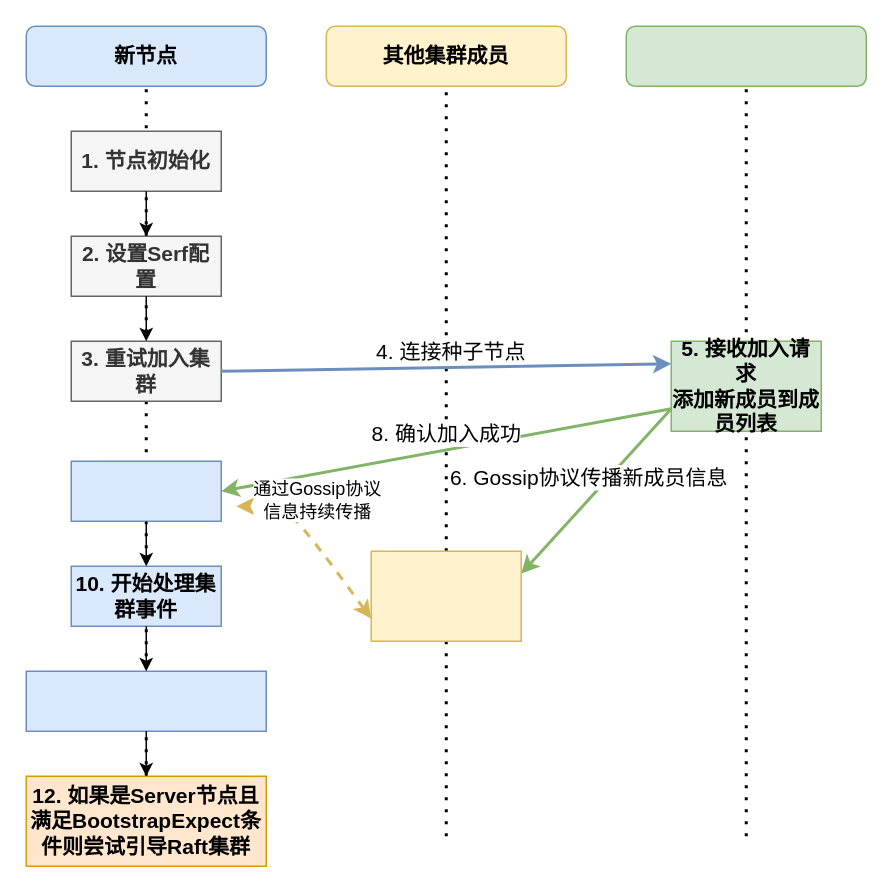
Some shapes in this 893 by 893 pixel diagram are drawn without their labels. Here are the shapes that lost their labels. From the top down, the box of each, then its label:
(625, 25, 866, 86): 已存在的种子节点
(70, 460, 221, 521): 9. 加入集群完成
(370, 550, 521, 641): 7. 更新成员列表 nodeJoin()处理
(25, 670, 266, 731): 11. 检查是否需要引导Raft集群
